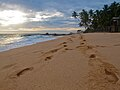human_foot_print: (76, 38, 119, 89), (88, 54, 119, 89), (89, 53, 119, 82), (89, 53, 119, 79), (36, 41, 71, 63), (0, 67, 33, 89), (34, 42, 65, 63), (92, 60, 119, 83), (39, 41, 71, 60), (42, 41, 72, 60), (76, 35, 95, 53), (103, 62, 119, 82), (41, 47, 62, 60), (9, 67, 33, 78), (105, 68, 118, 82), (75, 45, 95, 54), (42, 47, 62, 55), (16, 67, 33, 76), (58, 37, 72, 45), (60, 42, 72, 51), (2, 63, 15, 69), (59, 41, 70, 47), (76, 40, 85, 47), (63, 44, 72, 51), (86, 45, 106, 48), (47, 48, 60, 52), (80, 36, 86, 44), (62, 47, 73, 51), (58, 42, 67, 46), (45, 55, 52, 60), (89, 54, 96, 59), (80, 39, 86, 44), (33, 50, 43, 53), (67, 38, 73, 42), (95, 45, 106, 47), (87, 45, 93, 48), (64, 48, 72, 50), (80, 42, 85, 45), (59, 42, 66, 44), (76, 45, 82, 47), (70, 35, 75, 37), (83, 39, 86, 42), (79, 35, 82, 38), (63, 45, 67, 47), (113, 44, 119, 45)
